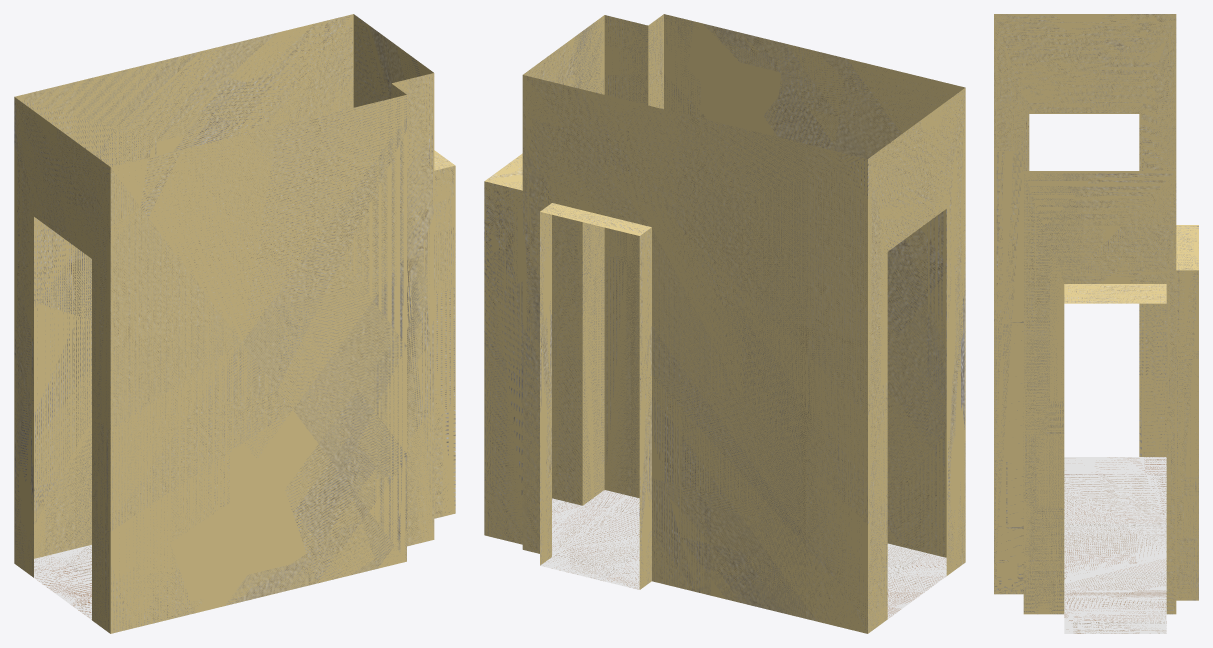
The model's file is CUA008.obj.
3 renders of one model, left to right at view 1: azimuth 30°, elevation 25°; view 2: azimuth 150°, elevation 25°; view 3: azimuth 270°, elevation 25°, orthographic. The views are drawn at different scales.
Visible parts, largest first — view 1: Mesh1 CUA008 Model; view 2: Mesh1 CUA008 Model; view 3: Mesh1 CUA008 Model.
Boxes of the visible parts, x1,y1,x2,y2 form: Mesh1 CUA008 Model: [14, 14, 455, 633]; Mesh1 CUA008 Model: [484, 14, 965, 633]; Mesh1 CUA008 Model: [994, 14, 1198, 633].
Size of the model in its own units: 2.55 by 2.98 by 1.25.
Materials: 4 (2 with a texture image).
